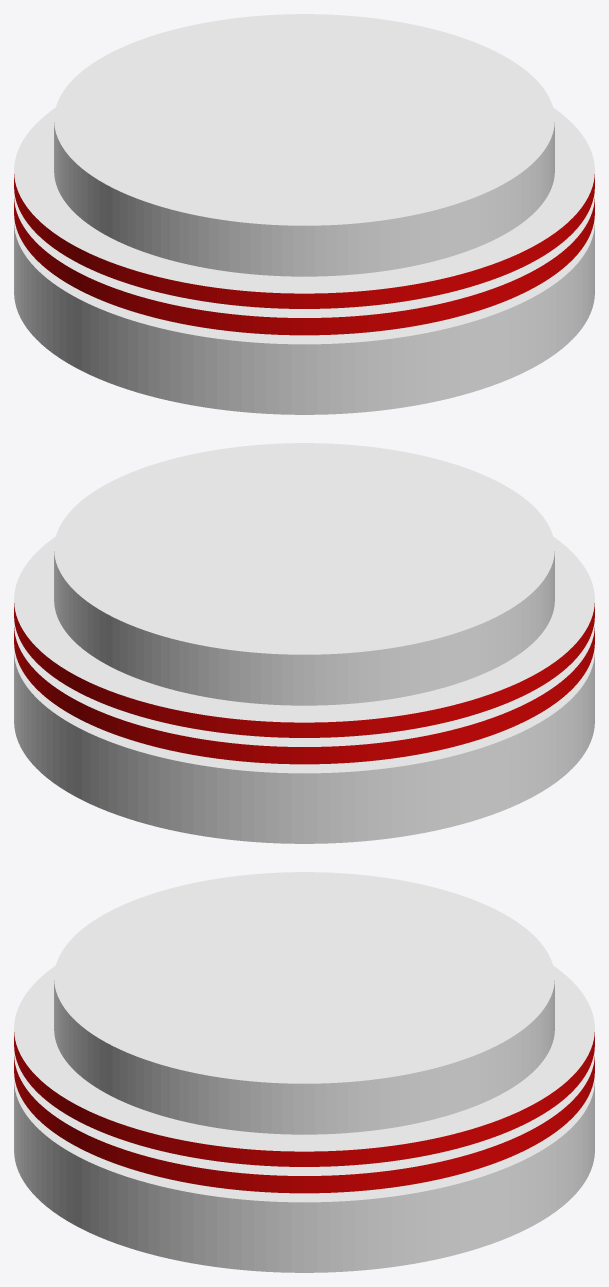
The model's file is laser.dae.
The picture shows the model from 3 angles, top to bottom: view 1: azimuth 30°, elevation 25°; view 2: azimuth 150°, elevation 25°; view 3: azimuth 270°, elevation 25°; orthographic projection.
Visible parts, largest first — view 1: Laser; view 2: Laser; view 3: Laser.
Boxes of the visible parts, x1,y1,x2,y2 form: Laser: (14,14,594,414); Laser: (14,443,594,843); Laser: (14,872,594,1272).
Size of the model in its own units: 0.06 by 0.06 by 0.0196.
Materials: 1 (1 with a texture image).
